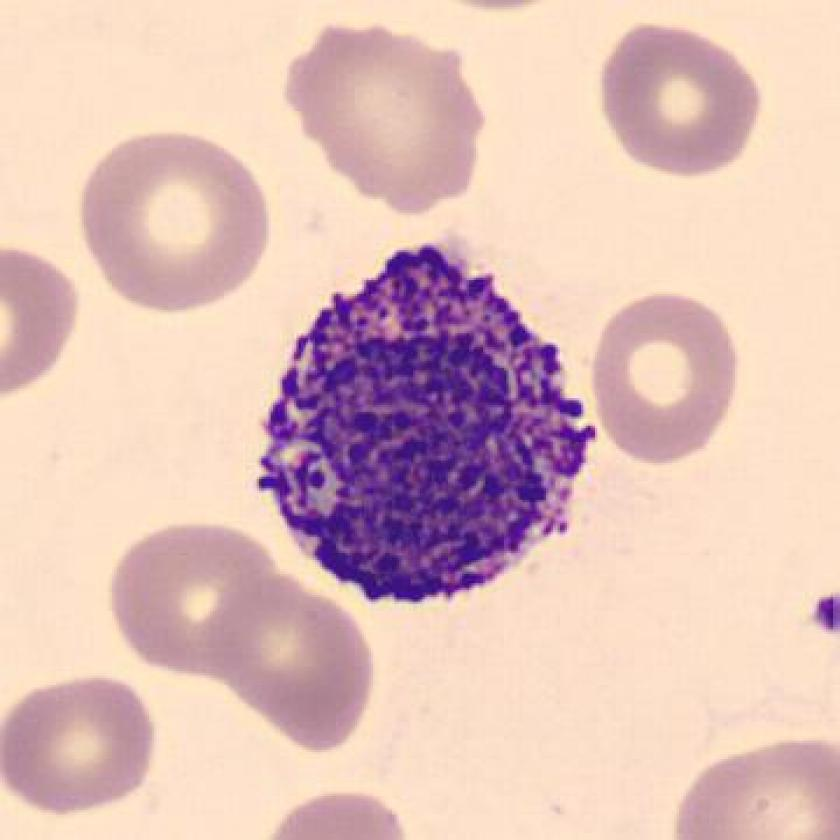basophil: (246, 240, 615, 608)
